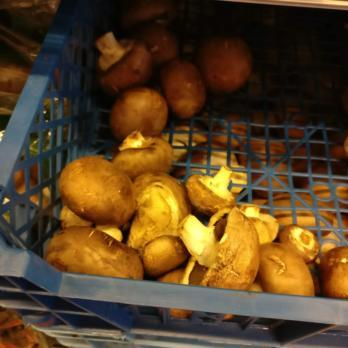Mushroom: (90, 5, 254, 167), (56, 133, 237, 273), (226, 202, 348, 293)
